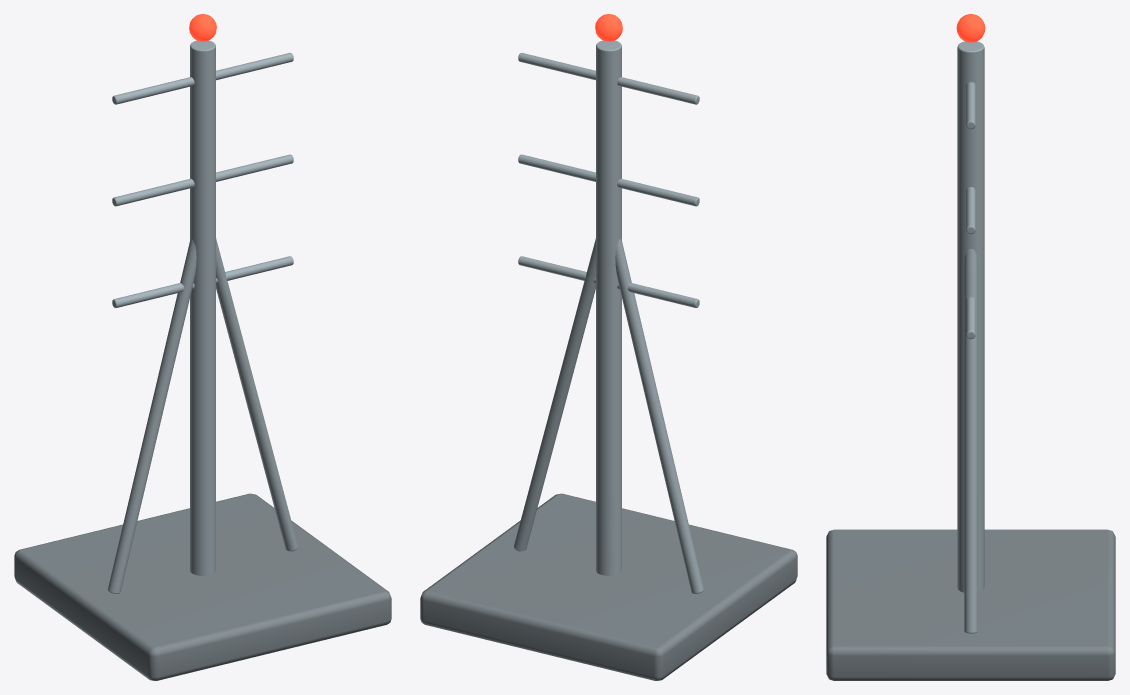
File: 24_comms_mast.glb
3 views of the same model, side by side, from view 1: azimuth 30°, elevation 25°; view 2: azimuth 150°, elevation 25°; view 3: azimuth 270°, elevation 25° (orthographic). The views are drawn at different scales.
Parts seen in each view (by area): view 1: Antenna platform, Mast brace, Red beacon; view 2: Antenna platform, Mast brace, Red beacon; view 3: Antenna platform, Mast brace, Red beacon.
Part boxes in pixels (left/top/right/bottom): Antenna platform: left=14, top=493, right=391, bottom=680; Mast brace: left=108, top=40, right=297, bottom=593; Red beacon: left=189, top=14, right=216, bottom=41; Antenna platform: left=420, top=493, right=797, bottom=680; Mast brace: left=514, top=40, right=703, bottom=593; Red beacon: left=595, top=14, right=622, bottom=41; Antenna platform: left=826, top=529, right=1115, bottom=680; Mast brace: left=957, top=41, right=984, bottom=633; Red beacon: left=956, top=14, right=985, bottom=42.
Size of the model in its own units: 1.5 by 3.48 by 1.5.
